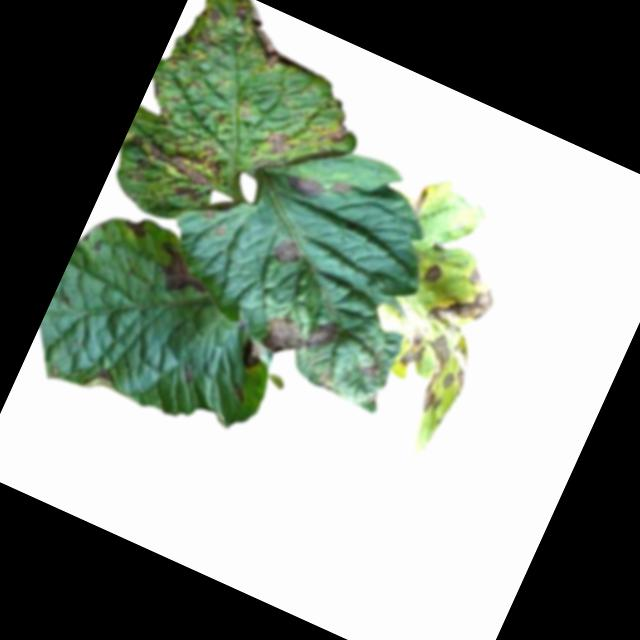Early_blight: (383, 254, 511, 423), (115, 113, 232, 214), (258, 295, 344, 373), (212, 1, 297, 72), (142, 239, 219, 308), (160, 1, 226, 79), (280, 159, 352, 214), (313, 109, 355, 151), (257, 124, 299, 163), (231, 333, 268, 375), (268, 235, 303, 271), (119, 213, 152, 241), (422, 261, 445, 288), (360, 360, 381, 382), (94, 368, 113, 386)
